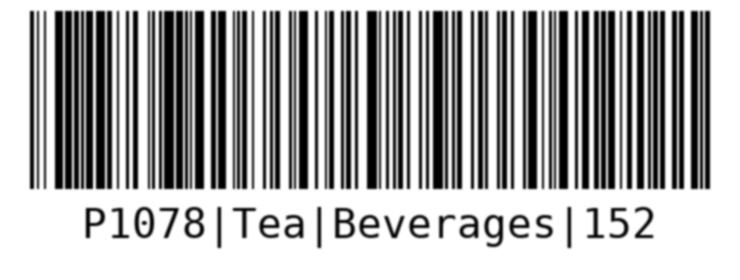milk: (21, 7, 719, 250)
